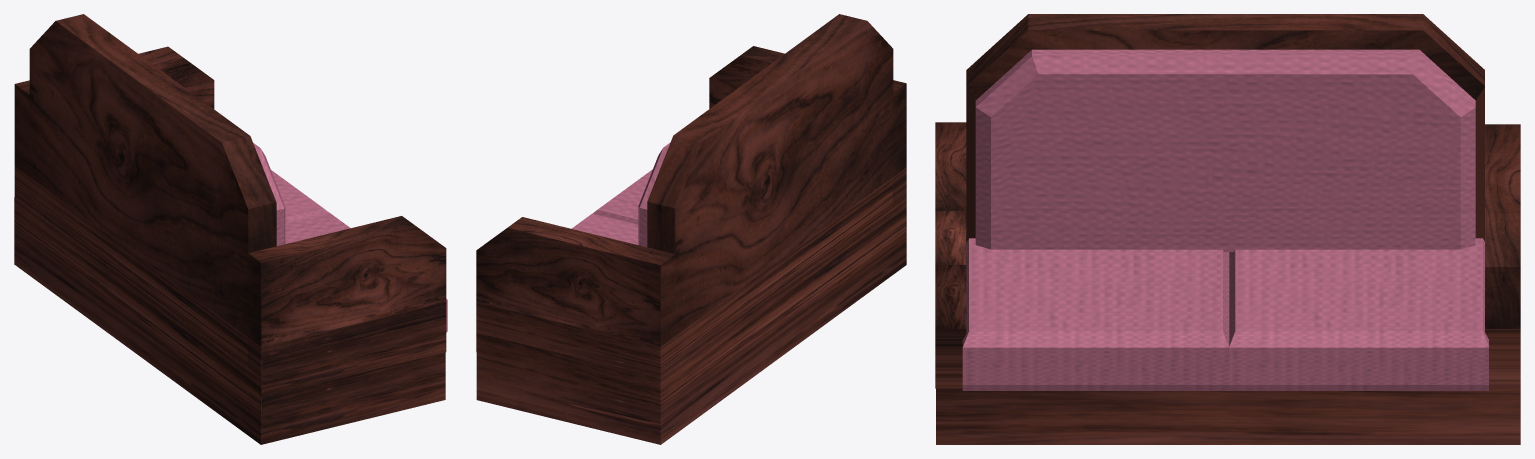
Rendered from Sofa.fbx.
The picture shows the model from 3 angles, left to right: view 1: azimuth 30°, elevation 25°; view 2: azimuth 150°, elevation 25°; view 3: azimuth 270°, elevation 25°; orthographic projection. The views are drawn at different scales.
Parts seen in each view (by area): view 1: Cube.026, Cube.028, Cube.025, Cube.027; view 2: Cube.026, Cube.028, Cube.025, Cube.027; view 3: Cube.026, Cube.025, Cube.027, Cube.028.
Part boxes in pixels (bbox=[...]): Cube.026: bbox=[14, 14, 446, 397]; Cube.028: bbox=[14, 197, 445, 444]; Cube.025: bbox=[285, 212, 447, 332]; Cube.027: bbox=[271, 170, 328, 222]; Cube.026: bbox=[476, 14, 906, 377]; Cube.028: bbox=[476, 198, 906, 444]; Cube.025: bbox=[593, 169, 652, 224]; Cube.027: bbox=[571, 213, 638, 244]; Cube.026: bbox=[935, 14, 1520, 388]; Cube.025: bbox=[962, 238, 1229, 390]; Cube.027: bbox=[1229, 238, 1488, 390]; Cube.028: bbox=[936, 388, 1520, 444].
Bounding box in the file's own units: 105 × 226 × 138.
